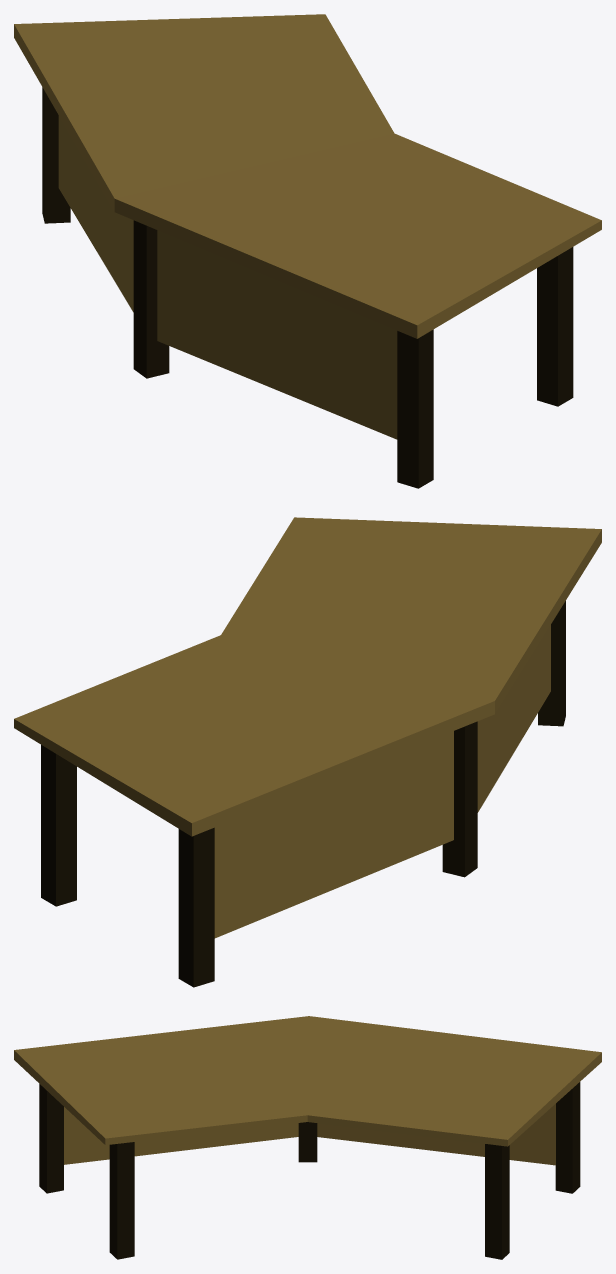
File: Meja_DosenSmartClass.glb
3 renders of one model, top to bottom at view 1: azimuth 30°, elevation 25°; view 2: azimuth 150°, elevation 25°; view 3: azimuth 270°, elevation 25°, orthographic. The views are drawn at different scales.
Parts seen in each view (by area): view 1: PERMUKAAN ATAS, KIRI, KANAN, K-KIRI.001, K-KIRI2, K-TENGAH, K-KANAN2; view 2: PERMUKAAN ATAS, KANAN, K-KANAN2, KIRI, K-KANAN, K-TENGAH, K-KIRI.001; view 3: PERMUKAAN ATAS, KANAN, KIRI, K-KIRI2, K-KANAN, K-KANAN2, K-KIRI.001, K-TENGAH.
Boxes of the visible parts, <box> form: PERMUKAAN ATAS: <box>14,14,601,338</box>; KIRI: <box>157,230,397,439</box>; KANAN: <box>58,115,133,312</box>; K-KIRI.001: <box>397,329,433,488</box>; K-KIRI2: <box>537,247,573,406</box>; K-TENGAH: <box>133,220,169,378</box>; K-KANAN2: <box>42,87,70,223</box>; PERMUKAAN ATAS: <box>14,517,601,836</box>; KANAN: <box>214,731,453,938</box>; K-KANAN2: <box>178,827,214,987</box>; KIRI: <box>477,625,550,812</box>; K-KANAN: <box>41,745,76,906</box>; K-TENGAH: <box>442,721,477,877</box>; K-KIRI.001: <box>538,601,565,726</box>; PERMUKAAN ATAS: <box>14,1016,601,1146</box>; KANAN: <box>317,1103,555,1165</box>; KIRI: <box>64,1107,298,1164</box>; K-KIRI2: <box>109,1142,134,1259</box>; K-KANAN: <box>485,1144,509,1259</box>; K-KANAN2: <box>555,1082,580,1193</box>; K-KIRI.001: <box>39,1084,63,1193</box>; K-TENGAH: <box>298,1122,317,1162</box>.
Bounding box in the file's own units: 4.65 × 2.3 × 9.45.
